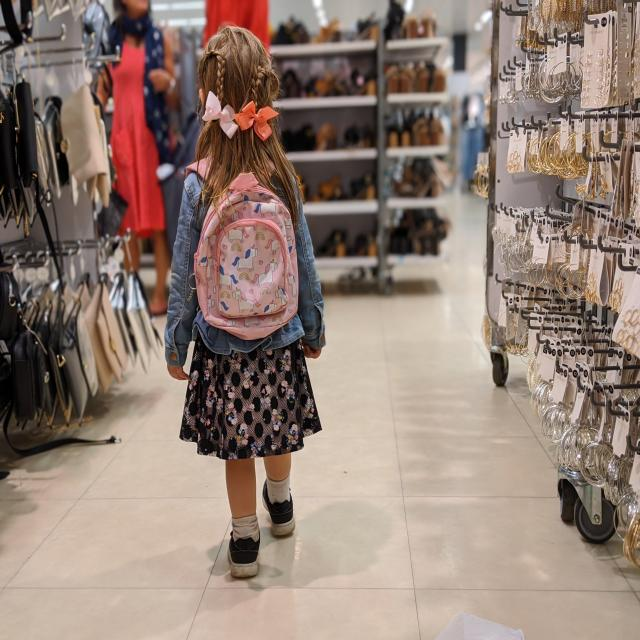backpack: (178, 155, 304, 342)
